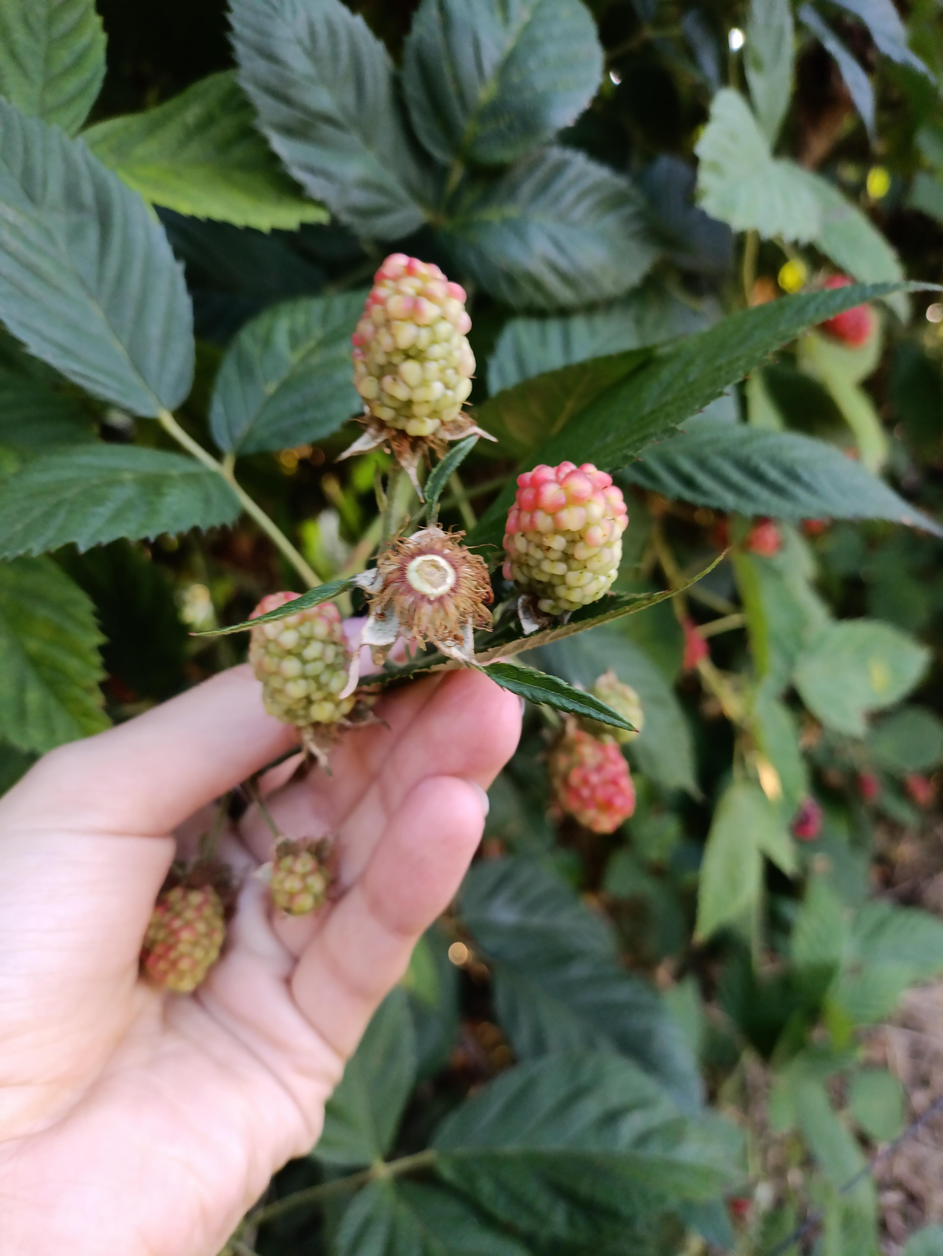verde: (349, 254, 477, 487), (503, 462, 627, 615), (249, 602, 355, 729), (251, 593, 298, 618)
